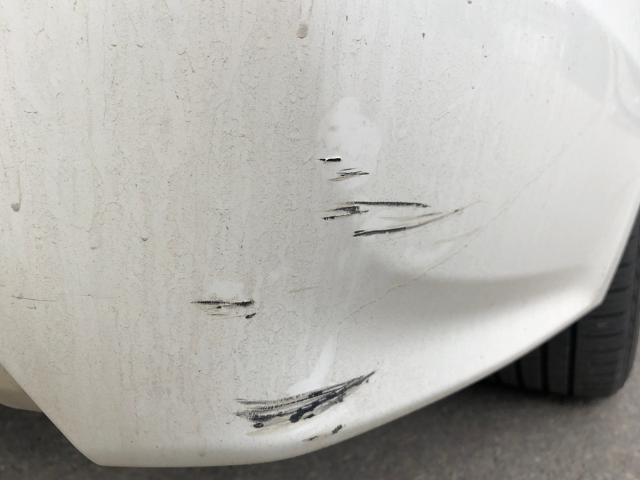Bumper: (0, 0, 637, 480)
